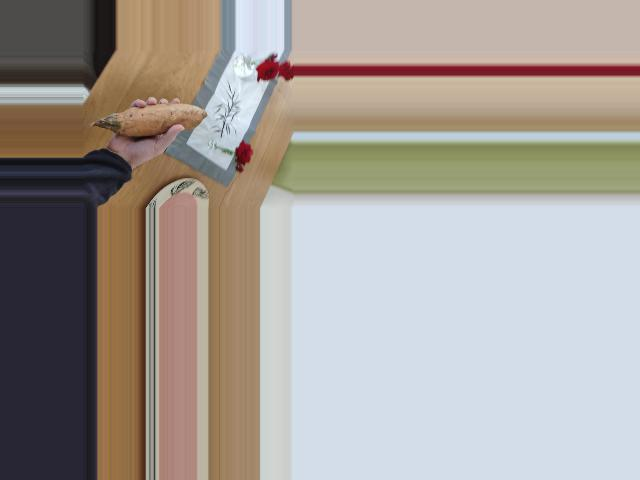sweet_potato: (100, 98, 209, 146)
